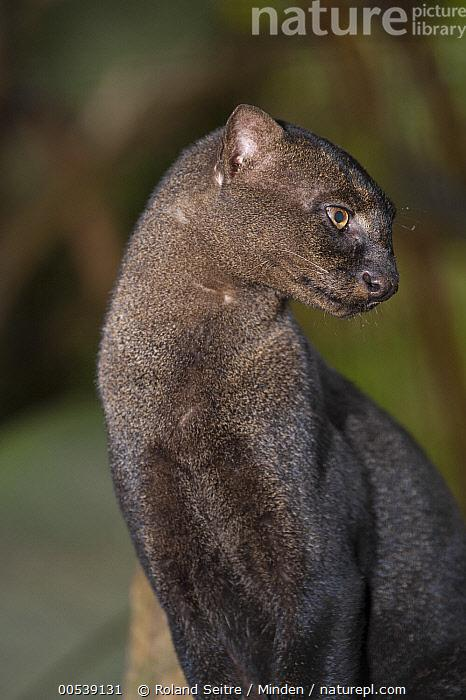Jaguarundi: (81, 98, 447, 662)
